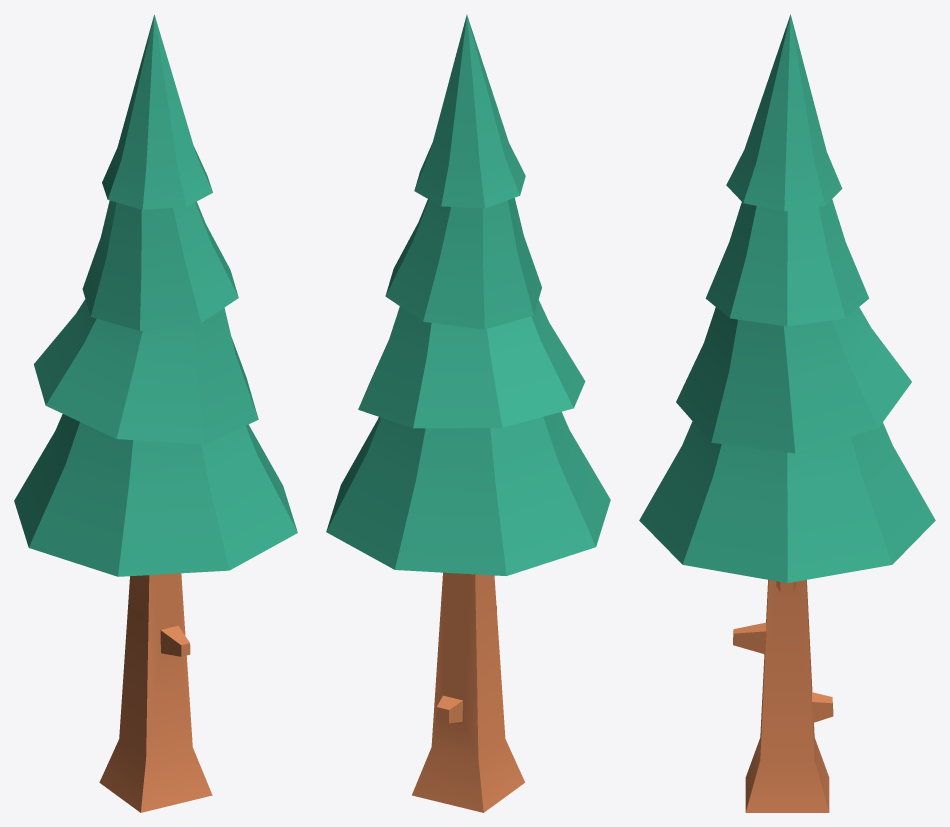
File: treeHighCrooked.fbx
3 renders of one model, left to right at view 1: azimuth 30°, elevation 25°; view 2: azimuth 150°, elevation 25°; view 3: azimuth 270°, elevation 25°, orthographic.
Visible parts, largest first — view 1: treeHighCrooked; view 2: treeHighCrooked; view 3: treeHighCrooked.
Part boxes in pixels (box(x1,y1,x2,y2)): treeHighCrooked: box(14, 14, 297, 812); treeHighCrooked: box(326, 14, 610, 812); treeHighCrooked: box(639, 14, 935, 812).
Bounding box in the file's own units: 10.23 × 29.73 × 10.23.
